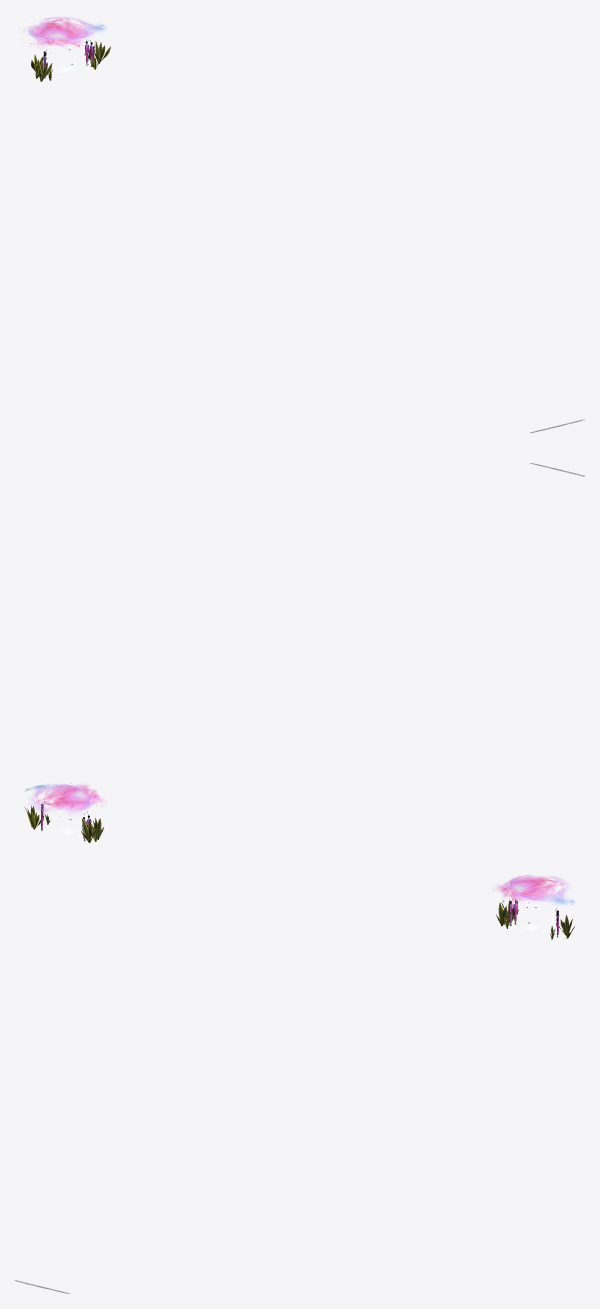
The model's file is animacao-ufes.glb.
The picture shows the model from 3 angles, top to bottom: view 1: azimuth 30°, elevation 25°; view 2: azimuth 150°, elevation 25°; view 3: azimuth 330°, elevation 25°; orthographic projection.
Parts seen in each view (by area): view 1: galaxia.001; view 2: galaxia.001; view 3: galaxia.001.
Part boxes in pixels (bbox=[...]): galaxia.001: bbox=[24, 17, 106, 51]; galaxia.001: bbox=[25, 783, 106, 815]; galaxia.001: bbox=[493, 875, 575, 907].
Bounding box in the file's own units: 2 × 0.9188 × 20.81.
8 materials, 7 textured.
